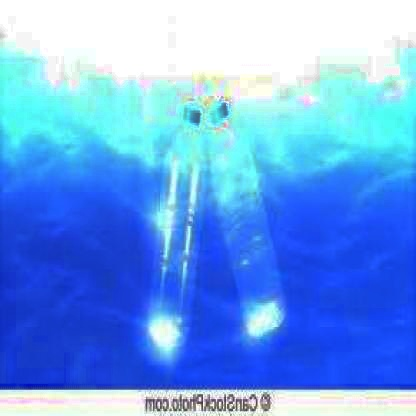pbottle: (200, 101, 290, 344), (144, 93, 213, 348)
